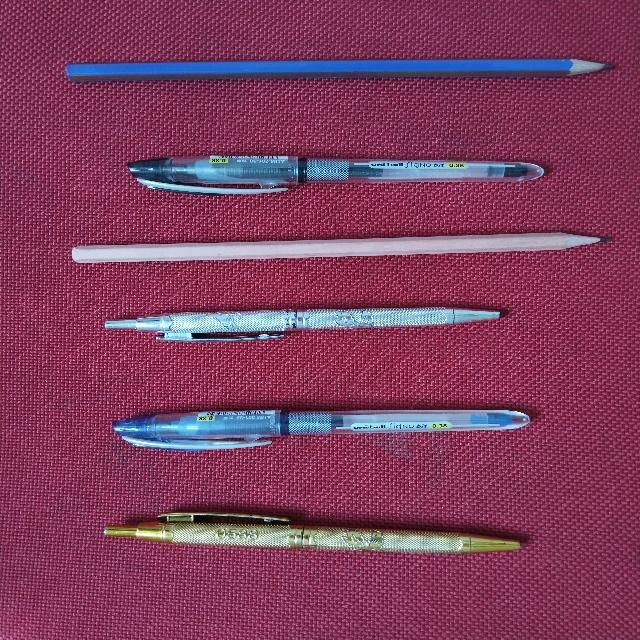pen: (113, 410, 529, 450), (128, 155, 543, 194)
pencil: (72, 233, 606, 262), (66, 59, 610, 81)
signature pen: (104, 512, 519, 552), (105, 307, 499, 341)
